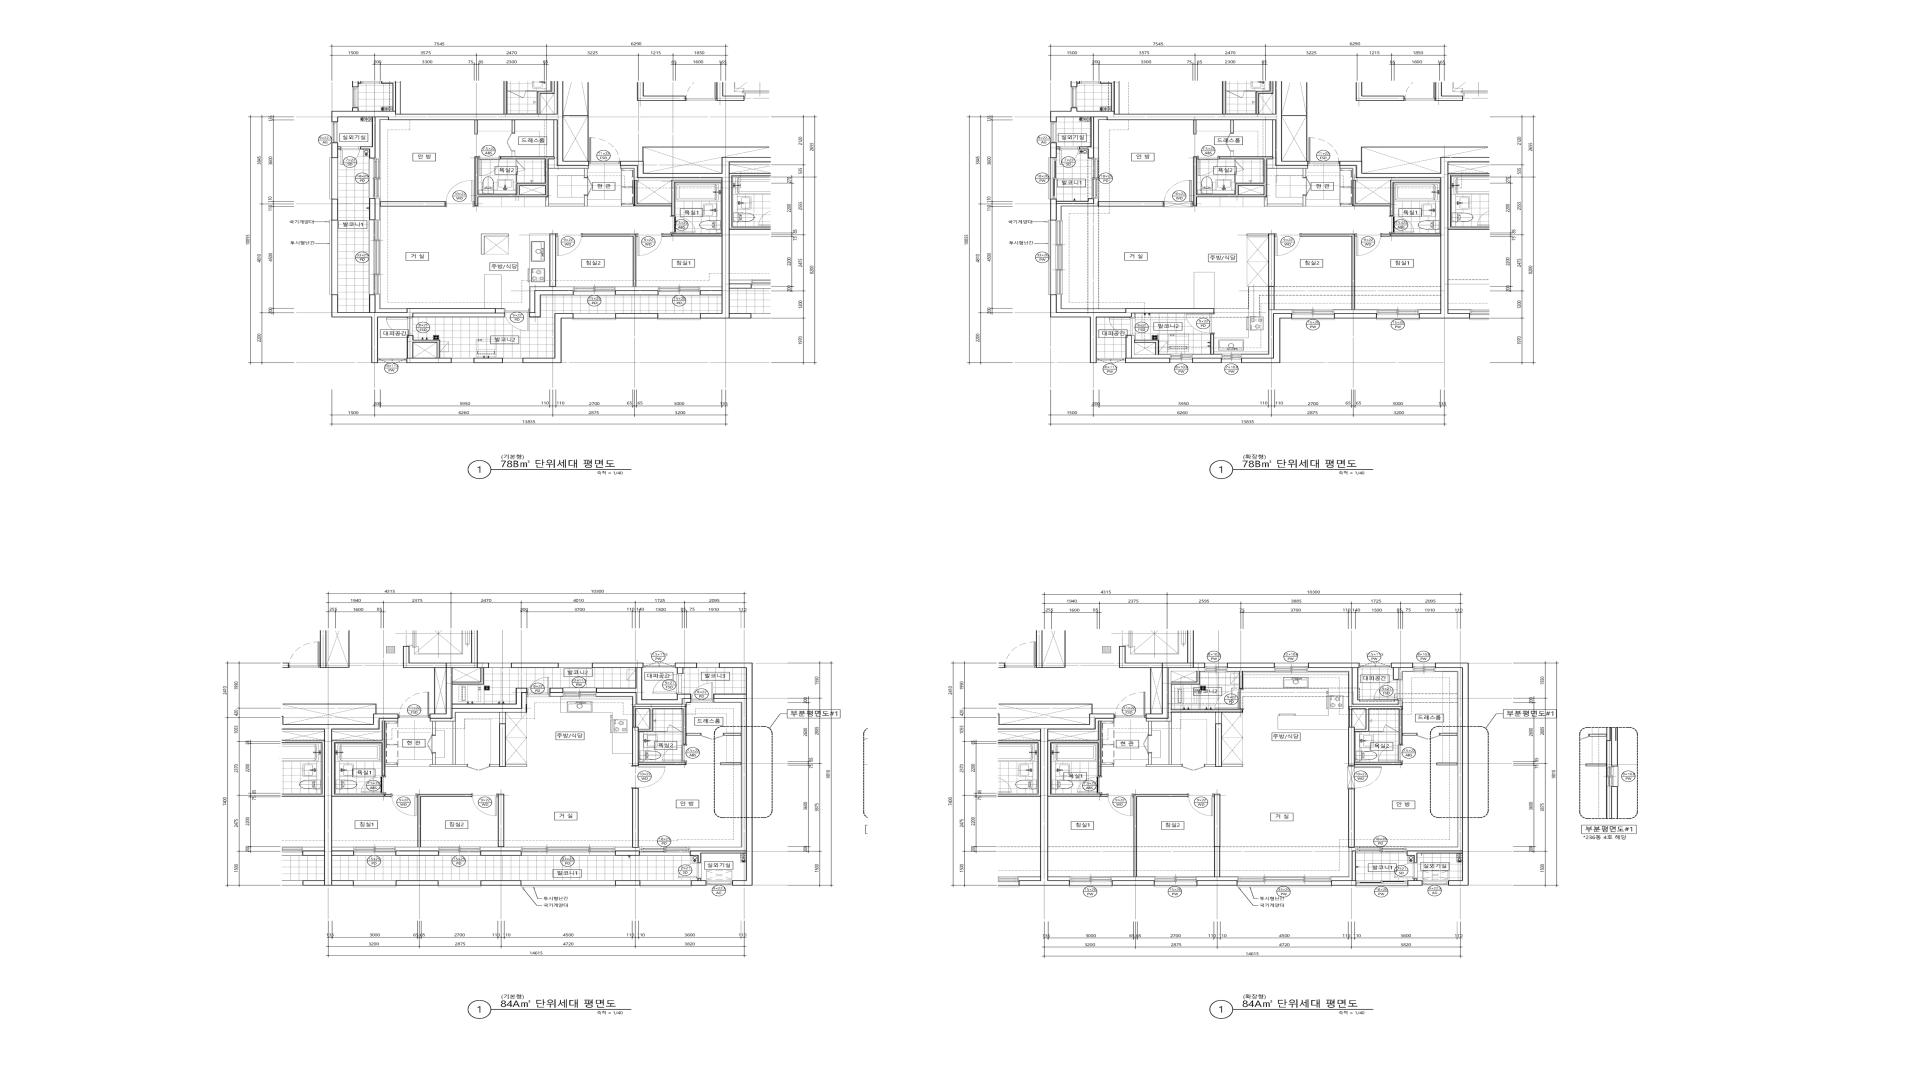door: (1308, 137, 1340, 164), (1114, 692, 1146, 719), (589, 137, 620, 164), (1163, 181, 1193, 207), (398, 692, 430, 717), (446, 181, 475, 207), (632, 766, 665, 789), (1349, 766, 1382, 789), (390, 794, 418, 816), (1215, 688, 1244, 709), (1374, 679, 1403, 700), (653, 674, 683, 694), (472, 794, 498, 816), (636, 233, 662, 256), (1275, 233, 1302, 256), (1356, 233, 1382, 256), (1188, 794, 1215, 816), (1108, 794, 1134, 816), (1185, 314, 1215, 334), (556, 233, 582, 256), (504, 309, 529, 331), (526, 676, 550, 696), (386, 318, 413, 335), (1109, 318, 1135, 335), (691, 683, 713, 703), (1378, 745, 1403, 762), (477, 157, 500, 175), (1197, 157, 1220, 175), (662, 745, 686, 762), (361, 777, 385, 794), (671, 216, 695, 233), (1390, 216, 1414, 233), (1077, 777, 1101, 794), (1059, 146, 1079, 165), (679, 862, 702, 878), (1395, 862, 1418, 878), (1225, 133, 1234, 152), (700, 733, 724, 740), (1418, 733, 1440, 740), (427, 735, 435, 753), (506, 133, 514, 152), (1143, 735, 1151, 753), (584, 178, 592, 195), (1303, 178, 1311, 195), (1182, 765, 1205, 770), (467, 765, 489, 770), (516, 160, 525, 171), (1234, 160, 1244, 171), (1383, 725, 1399, 732), (667, 725, 683, 732)
wall: (331, 82, 589, 166), (1051, 82, 1308, 166), (620, 157, 729, 319), (1340, 157, 1448, 319), (690, 663, 753, 886), (1407, 663, 1469, 886), (324, 713, 398, 886), (1040, 713, 1114, 886), (331, 294, 504, 363), (1051, 294, 1215, 363), (1407, 667, 1462, 851), (1146, 669, 1244, 766), (402, 646, 526, 719), (690, 699, 746, 851), (430, 692, 526, 766), (1120, 646, 1205, 719), (1134, 794, 1188, 877), (1302, 233, 1356, 310), (592, 663, 691, 704), (1193, 157, 1274, 206), (475, 157, 554, 206), (1308, 667, 1403, 707), (1308, 663, 1399, 704), (632, 707, 686, 766), (1349, 707, 1403, 766), (418, 794, 472, 847), (582, 233, 636, 286), (1241, 314, 1292, 363), (522, 314, 572, 363), (1241, 310, 1292, 357), (549, 120, 589, 178), (1267, 120, 1308, 178), (620, 166, 721, 181), (1340, 166, 1441, 181), (1056, 294, 1126, 313), (596, 694, 691, 707), (1125, 335, 1170, 363), (529, 290, 574, 318), (406, 335, 451, 363), (529, 286, 574, 313), (1282, 115, 1307, 161), (1051, 199, 1095, 220), (1131, 335, 1170, 359), (1056, 199, 1098, 220), (332, 719, 398, 732), (1048, 719, 1114, 732), (1332, 851, 1356, 886), (1332, 847, 1356, 881), (481, 233, 509, 255), (376, 294, 406, 313), (1269, 233, 1275, 310), (1095, 117, 1106, 158), (376, 117, 388, 158), (546, 195, 587, 207), (1265, 195, 1307, 206), (1215, 794, 1220, 877), (632, 789, 638, 848), (1171, 671, 1200, 684), (413, 343, 436, 359), (452, 669, 480, 682), (1134, 340, 1159, 355), (413, 314, 504, 318), (1391, 663, 1414, 679), (497, 794, 504, 847), (1097, 202, 1163, 207), (550, 233, 556, 286), (380, 202, 446, 207), (1349, 789, 1354, 848), (636, 709, 650, 729), (1352, 709, 1366, 729), (1216, 724, 1222, 766), (510, 663, 558, 669), (1228, 663, 1275, 669), (675, 663, 698, 674), (396, 851, 439, 856), (615, 290, 658, 295), (396, 881, 438, 886), (500, 724, 505, 766), (1335, 314, 1377, 319), (616, 314, 658, 319), (1112, 881, 1154, 886), (480, 851, 521, 856), (481, 881, 521, 886), (1197, 881, 1237, 886), (1228, 667, 1275, 671), (396, 847, 439, 851), (615, 286, 658, 290), (1399, 667, 1414, 679), (1112, 877, 1154, 881), (1335, 310, 1377, 314), (480, 847, 521, 851), (1197, 877, 1237, 881), (1192, 357, 1221, 363), (473, 357, 502, 363), (369, 198, 376, 220), (1050, 142, 1059, 158), (331, 142, 340, 158), (331, 199, 338, 220), (615, 851, 640, 856), (616, 881, 640, 886), (691, 878, 707, 886), (1192, 353, 1221, 357), (1408, 878, 1423, 886), (615, 847, 640, 851), (376, 198, 380, 220), (1419, 310, 1441, 314), (332, 847, 353, 851), (700, 286, 721, 290), (1048, 877, 1069, 881), (1240, 671, 1244, 688), (434, 669, 435, 713), (1150, 669, 1151, 713), (1247, 233, 1269, 236), (550, 688, 563, 692), (1211, 334, 1213, 353), (1230, 120, 1234, 133), (550, 692, 563, 696), (475, 120, 477, 135), (1193, 120, 1196, 135), (1403, 733, 1418, 736), (686, 733, 700, 736), (512, 120, 514, 133), (505, 765, 527, 766), (1222, 765, 1244, 766), (1230, 152, 1234, 157), (621, 204, 634, 206), (1340, 204, 1353, 206), (1370, 731, 1383, 732), (1101, 765, 1114, 766), (385, 765, 397, 766), (1234, 171, 1236, 183), (1131, 314, 1135, 318), (512, 152, 514, 157), (516, 171, 517, 182), (1205, 765, 1216, 766), (489, 765, 500, 766), (653, 732, 667, 732)
window: (1048, 220, 1063, 294), (1237, 877, 1332, 887), (521, 847, 615, 856), (369, 220, 380, 294), (521, 881, 616, 887), (330, 220, 338, 295), (640, 847, 690, 856), (1154, 877, 1197, 887), (1069, 877, 1112, 887), (1377, 310, 1419, 320), (1292, 310, 1335, 320), (369, 158, 380, 198), (658, 286, 700, 295), (353, 847, 396, 856), (574, 286, 615, 295), (439, 847, 480, 856), (1356, 881, 1408, 887), (640, 881, 691, 887), (330, 158, 338, 199), (1048, 158, 1056, 199), (1275, 663, 1308, 673), (572, 314, 616, 320), (438, 881, 481, 887), (658, 314, 700, 320), (353, 881, 396, 887), (1356, 847, 1407, 852), (1092, 158, 1098, 199), (563, 688, 596, 696), (1170, 353, 1192, 363), (1205, 663, 1228, 673), (1414, 663, 1435, 673), (1221, 353, 1241, 363), (558, 663, 592, 669), (1360, 662, 1391, 667), (644, 662, 675, 667), (378, 359, 407, 364), (1097, 359, 1125, 364), (331, 123, 338, 142), (451, 357, 473, 363), (502, 357, 522, 363), (1051, 123, 1056, 142), (1423, 881, 1448, 885), (707, 881, 732, 885), (489, 663, 510, 667), (698, 663, 719, 667)
